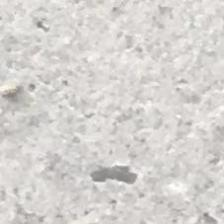Non_Crack: (77, 6, 224, 123)
